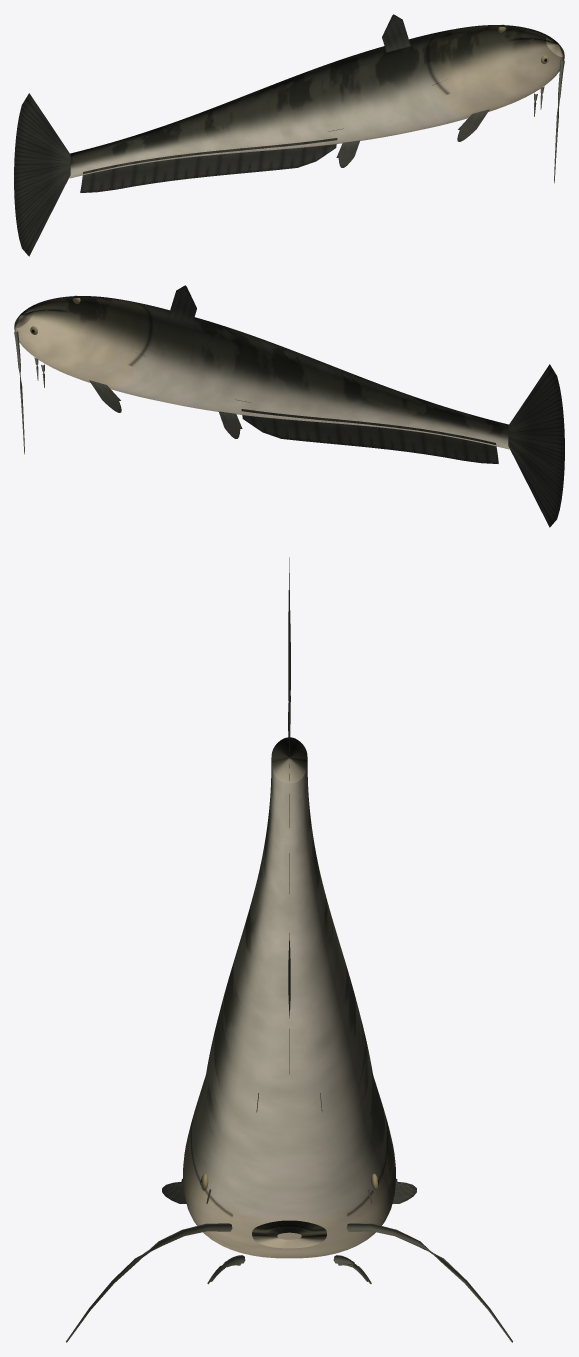
The model's file is fish_catfish.gltf.
3 views of the same model, one above another, from view 1: azimuth 30°, elevation 25°; view 2: azimuth 150°, elevation 25°; view 3: azimuth 270°, elevation 25° (orthographic). The views are drawn at different scales.
Visible parts, largest first — view 1: fish_catfish; view 2: fish_catfish; view 3: fish_catfish.
Part boxes in pixels (left/top/right/bottom): fish_catfish: left=14, top=14, right=564, bottom=256; fish_catfish: left=14, top=285, right=564, bottom=527; fish_catfish: left=66, top=557, right=512, bottom=1342.
Size of the model in its own units: 1.1 by 0.3172 by 0.3919.
Materials: 7 (4 with a texture image).
